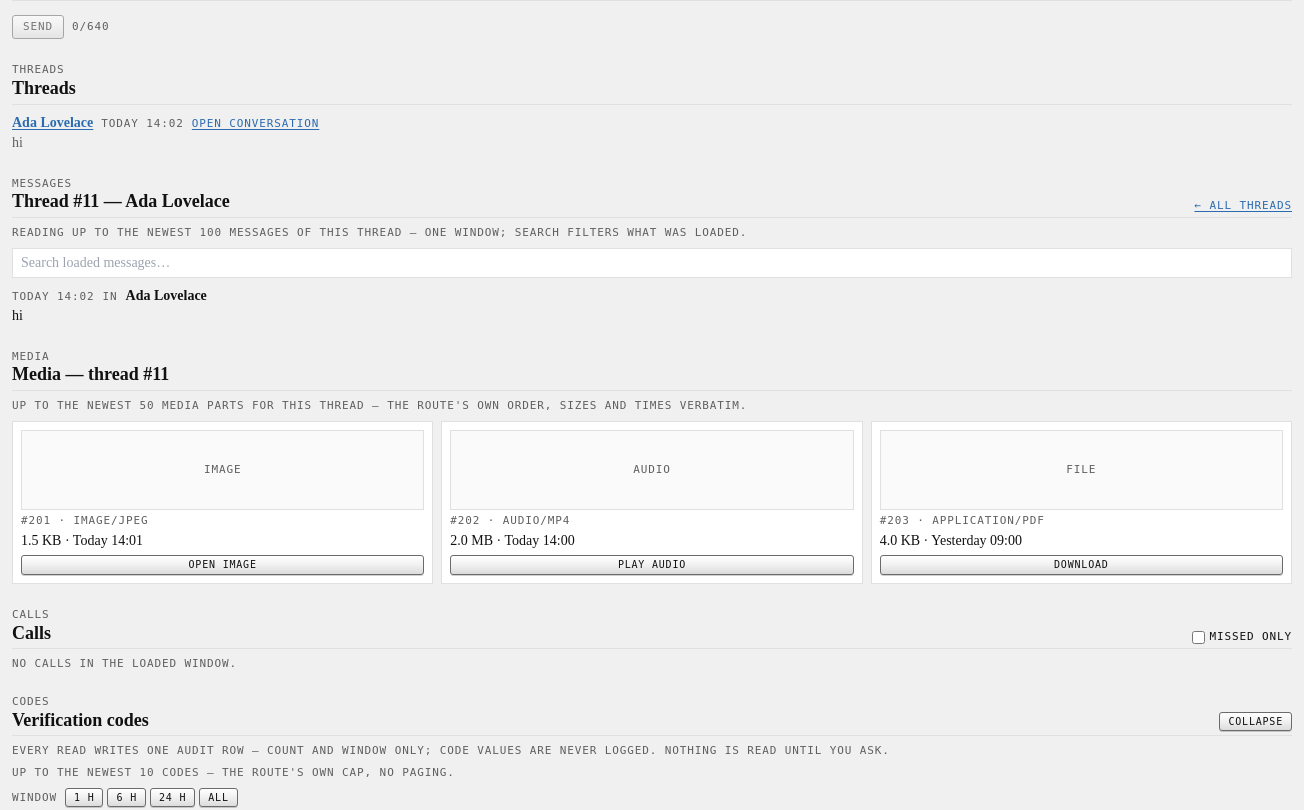
Scenario: phone media viewer (frozen GET /phone/media/{part_id}) › a non-previewable part downloads under the SERVER's filename, then revokes the URL
(page scrolled)
Expected: the list with test id "phone-media-list" is shown, [12,421,1292,584]
Click the button with aria-label "Download part #203": (1081, 565) [880,555,1283,575]
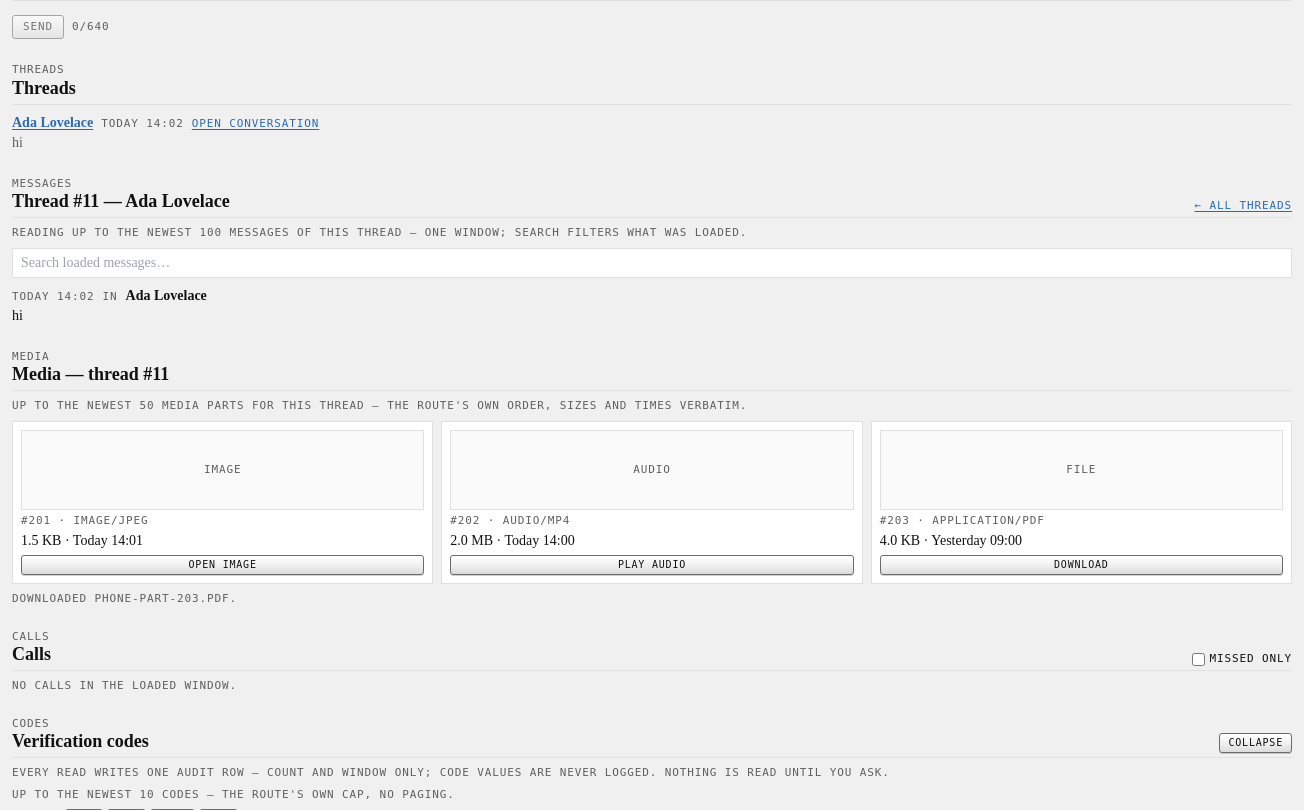
Result: the message with test id "phone-media-saved" reads "Downloaded phone-part-203.pdf." at [12,592,237,605]
